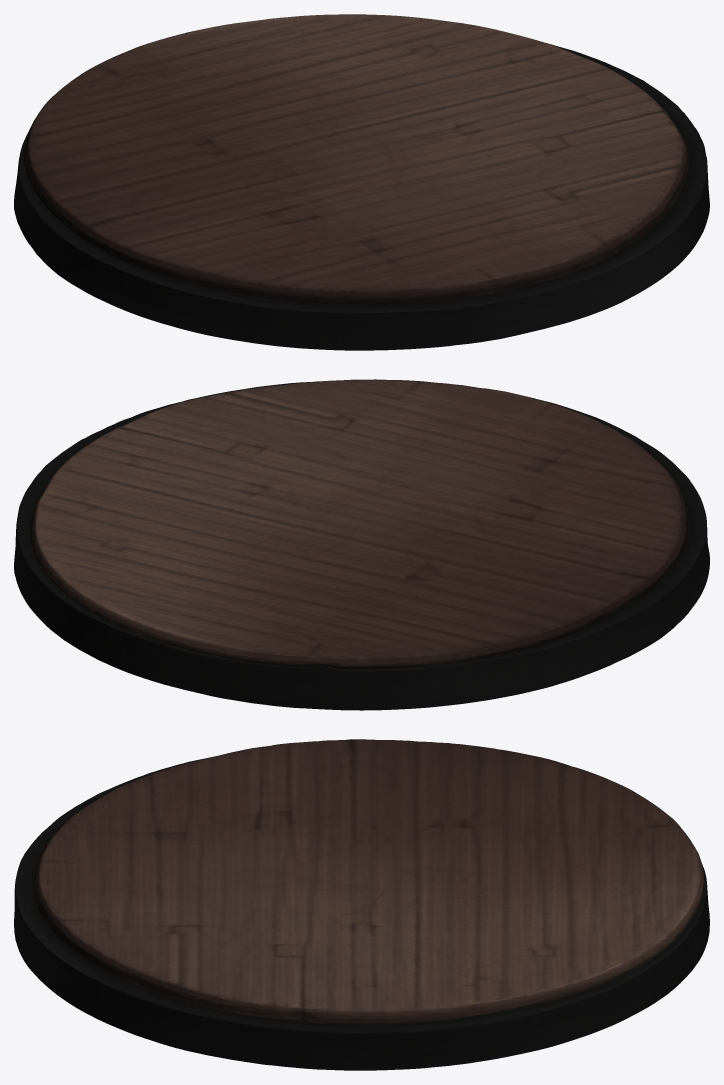
The model's file is Castle_minimap.glb.
The picture shows the model from 3 angles, top to bottom: view 1: azimuth 30°, elevation 25°; view 2: azimuth 150°, elevation 25°; view 3: azimuth 270°, elevation 25°; orthographic projection.
Parts seen in each view (by area): view 1: world; view 2: world; view 3: world.
Part boxes in pixels (box(x1,y1,x2,y2)): world: box(14, 14, 709, 350); world: box(14, 379, 709, 710); world: box(14, 739, 709, 1070).
Bounding box in the file's own units: 0.9956 × 0.0785 × 1.
Materials: 1 (1 with a texture image).
